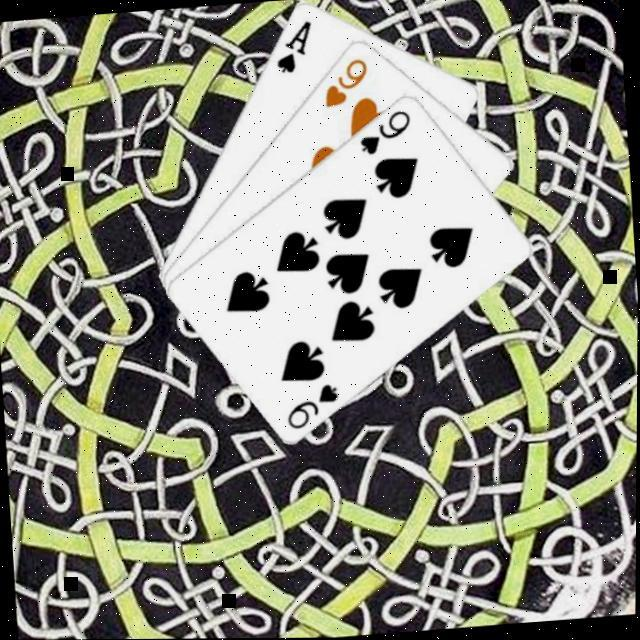9H: (318, 54, 373, 108)
9S: (354, 104, 416, 158), (283, 378, 344, 432)
AS: (270, 15, 316, 76)
